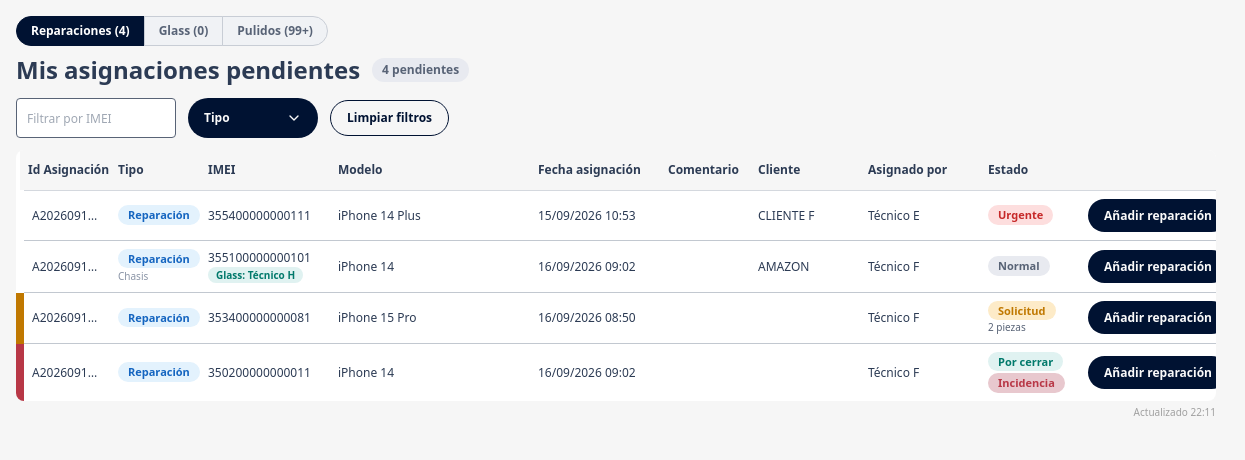
Test: PendientesPage (ficha docs/paridad/pendientes.md) › el botón "Añadir reparación" abre la ruta del formulario de su asignación y la lista sigue montada
This screenshot has width=1245, height=460.
Expected: the number of buttons "Añadir reparación" is 4, [1088, 198, 1216, 232]; [1088, 250, 1216, 283]; [1088, 301, 1216, 334]; [1088, 356, 1216, 389]
Expected: the button "Añadir reparación" in the row of "A20260915_29" is enabled, [1088, 198, 1216, 232]
What coordinates should you click on to do the following:
click the button "Añadir reparación" in the row of "A20260915_29"
I would click on:
 (1158, 215)
Its box is [1088, 198, 1228, 232].
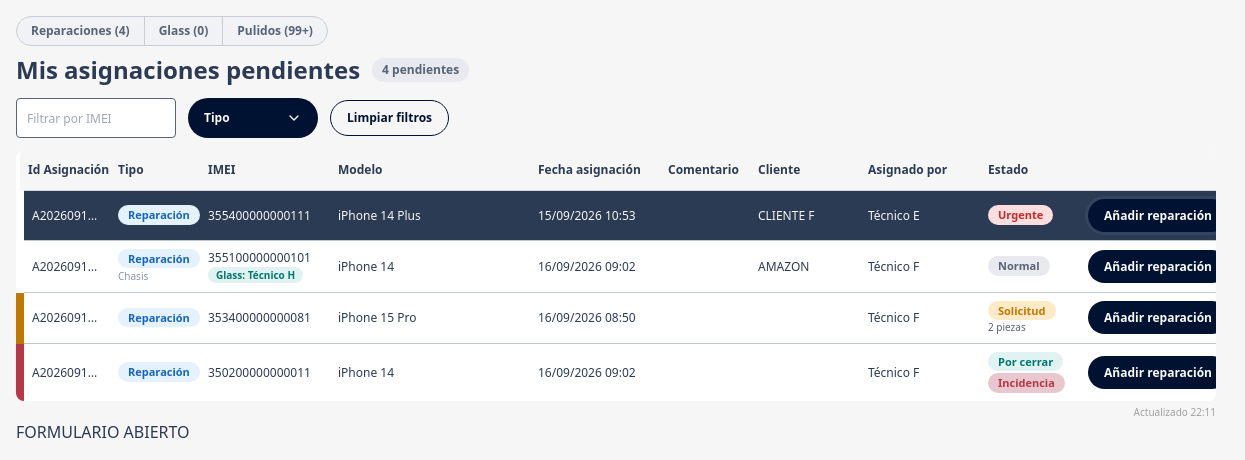
Expected: the heading "Mis asignaciones pendientes" is shown, [16, 54, 360, 86]
Expected: the text "FORMULARIO ABIERTO" is shown, [16, 421, 190, 443]
